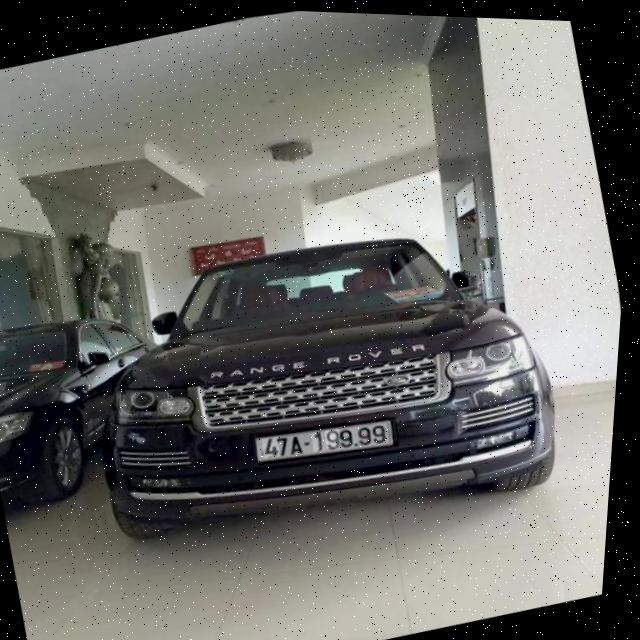car: (38, 179, 582, 590), (0, 305, 148, 526)
plate: (243, 398, 398, 481)
